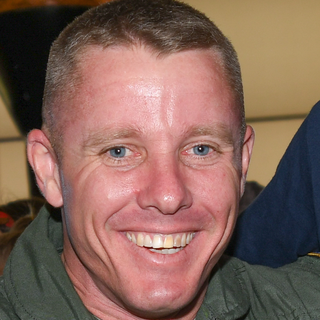eye: (96, 141, 142, 165), (179, 139, 223, 163)
